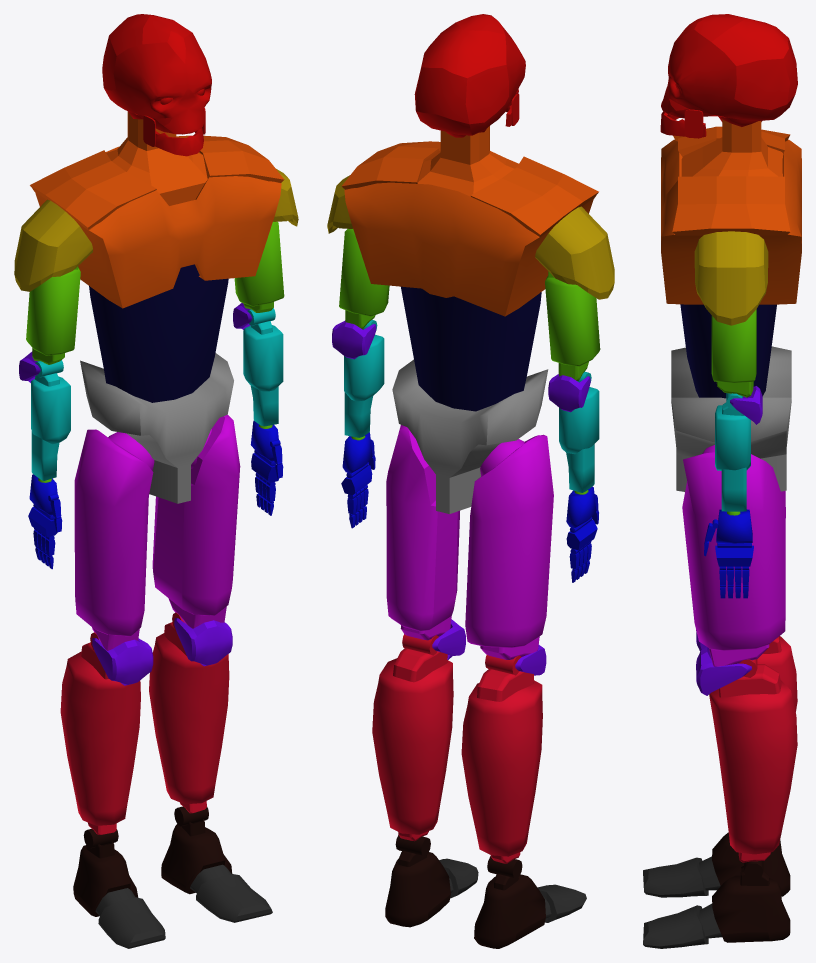
The model's file is robot_maitre_LP.fbx.
3 renders of one model, left to right at view 1: azimuth 30°, elevation 25°; view 2: azimuth 150°, elevation 25°; view 3: azimuth 270°, elevation 25°, orthographic.
Visible parts, largest first — view 1: torse001, cuisseG003, corp001, cuisseG002, MolletG003, MolletG002, tete001, bassin001, epauleG003, brasG003, aventBrasG003, aventBrasG002 (+11 smaller); view 2: torse001, cuisseG003, MolletG003, MolletG002, corp001, cuisseG002, bassin001, tete001, epauleG003, piedG003, piedG002, brasG003 (+14 smaller); view 3: torse001, cuisseG002, MolletG002, tete001, bassin001, epauleG002, piedG002, corp001, aventBrasG002, brasG002, orteille002, orteille003 (+7 smaller).
Part boxes in pixels (box(x1,y1,x2,y2)): torse001: box(30, 111, 284, 308); cuisseG003: box(74, 429, 154, 650); corp001: box(89, 264, 228, 402); cuisseG002: box(152, 414, 240, 628); MolletG003: box(60, 632, 140, 834); MolletG002: box(149, 612, 229, 813); tete001: box(102, 14, 211, 134); bassin001: box(80, 353, 233, 503); epauleG003: box(14, 199, 92, 291); brasG003: box(26, 266, 80, 364); aventBrasG003: box(31, 360, 70, 480); aventBrasG002: box(243, 308, 283, 426); torse001: box(341, 126, 598, 316); cuisseG003: box(465, 434, 553, 659); MolletG003: box(461, 655, 542, 863); MolletG002: box(372, 634, 453, 841); corp001: box(401, 286, 541, 411); cuisseG002: box(386, 425, 459, 640); bassin001: box(392, 359, 548, 513); tete001: box(414, 14, 525, 137); epauleG003: box(535, 206, 614, 299); piedG003: box(474, 856, 545, 948); piedG002: box(385, 835, 450, 927); brasG003: box(545, 271, 600, 380); torse001: box(661, 119, 801, 304); cuisseG002: box(682, 445, 785, 666); MolletG002: box(709, 659, 797, 862); tete001: box(661, 14, 797, 126); bassin001: box(671, 346, 791, 491); epauleG002: box(694, 231, 768, 325); piedG002: box(712, 861, 790, 942); corp001: box(680, 304, 776, 398); aventBrasG002: box(715, 393, 750, 511); brasG002: box(711, 309, 756, 397); orteille002: box(643, 903, 722, 948); orteille003: box(643, 856, 720, 897).
Bounding box in the file's own units: 174 × 537 × 86.32.
